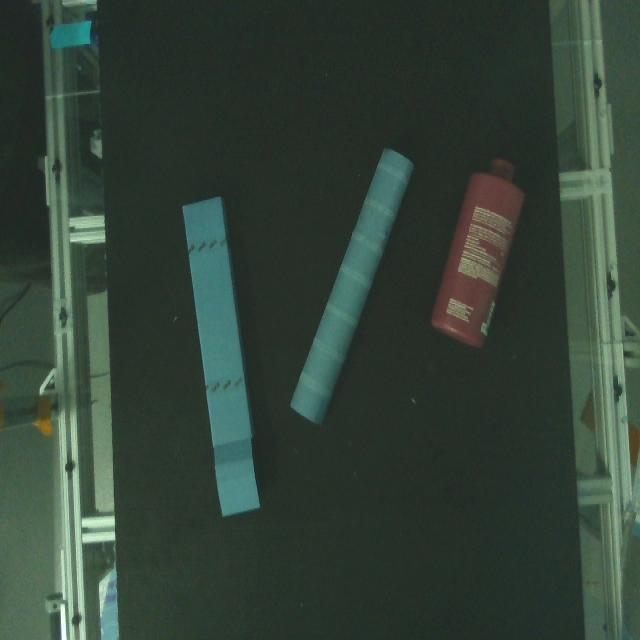non-paper: (426, 146, 532, 363)
paper: (284, 139, 421, 433), (178, 192, 272, 520), (301, 419, 302, 420)
